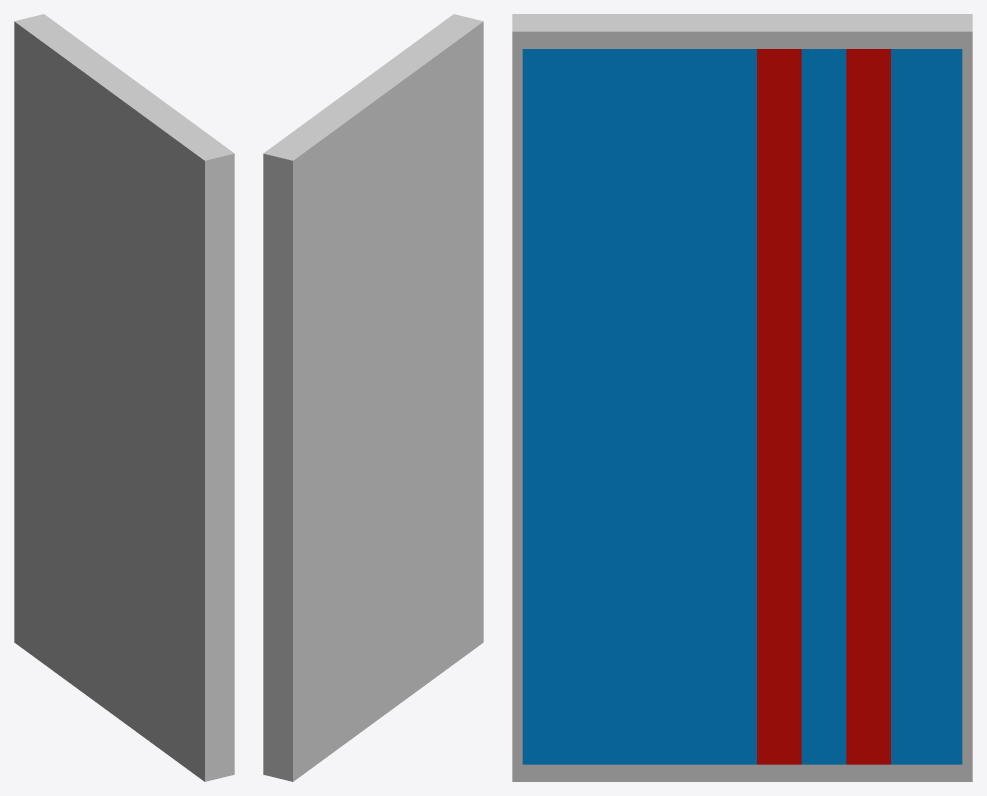
File: BigScreen.fbx
The picture shows the model from 3 angles, left to right: view 1: azimuth 30°, elevation 25°; view 2: azimuth 150°, elevation 25°; view 3: azimuth 270°, elevation 25°; orthographic projection. The views are drawn at different scales.
Visible parts, largest first — view 1: Cube.014; view 2: Cube.014; view 3: Cube.014.
Boxes of the visible parts, bbox=[...] form: Cube.014: bbox=[14, 14, 234, 781]; Cube.014: bbox=[263, 14, 483, 781]; Cube.014: bbox=[512, 14, 972, 781].
Bounding box in the file's own units: 18.11 × 360 × 200.
